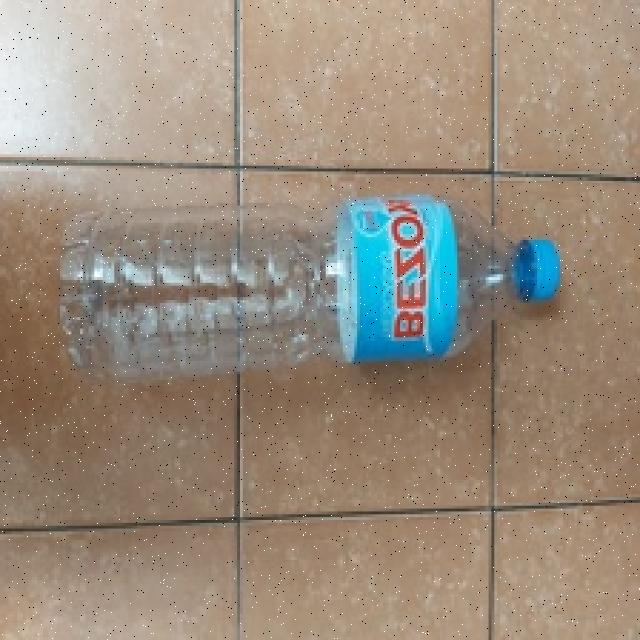plastic: (40, 198, 566, 388)
